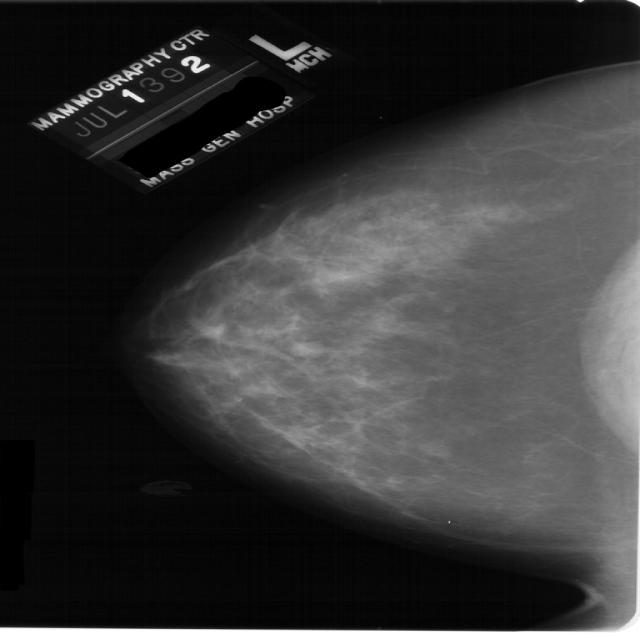tumour: (288, 340, 322, 358)
